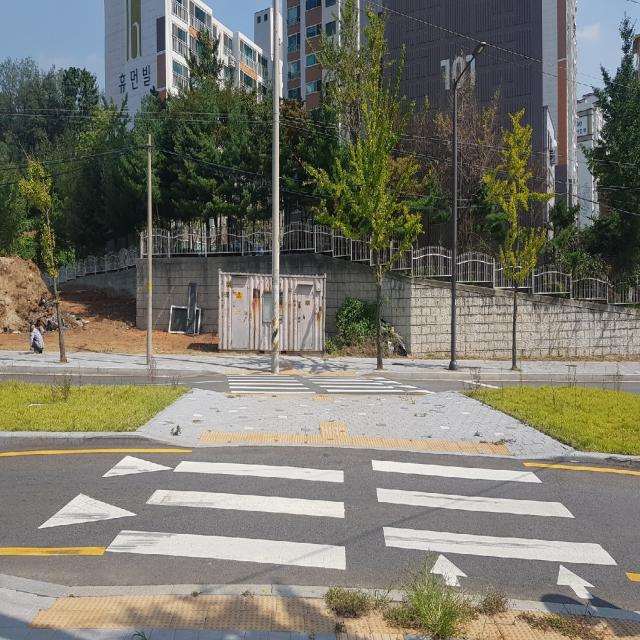횡단보도: (104, 456, 620, 603)
